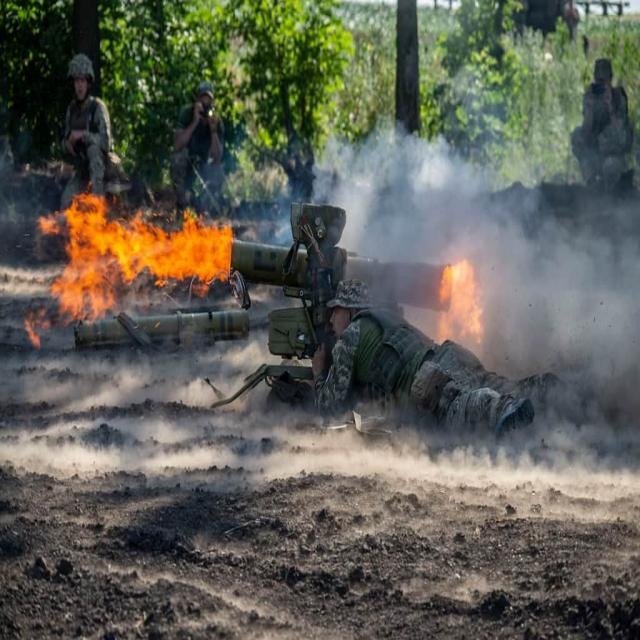bazooka: (209, 165, 464, 344)
